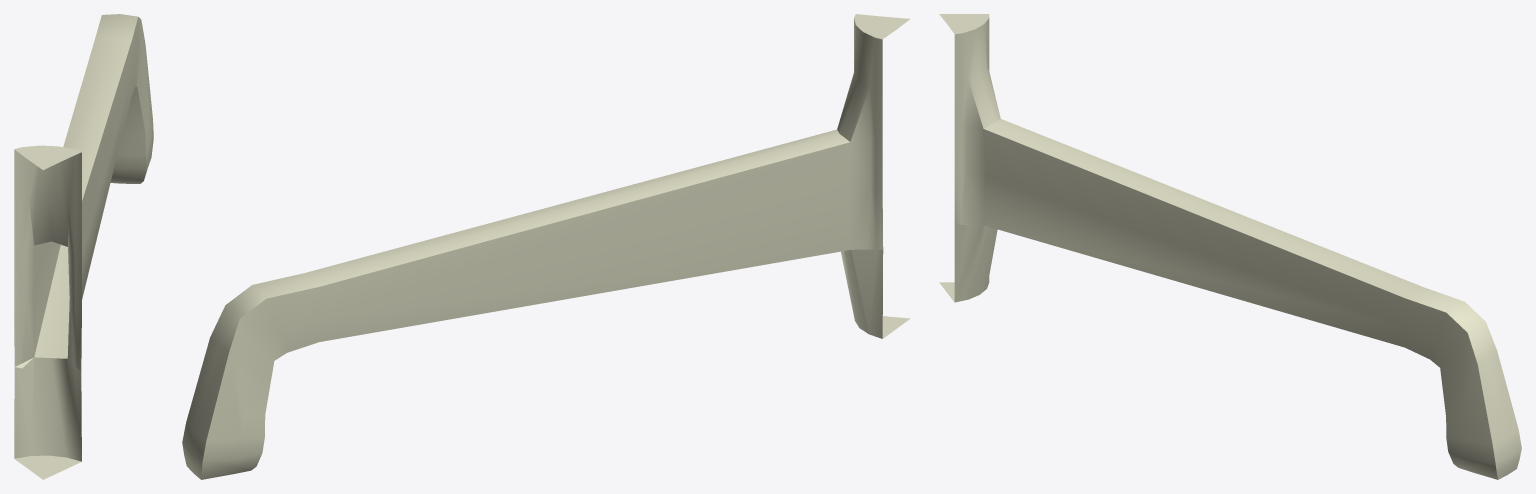
File: original-3.obj
3 views of the same model, side by side, from view 1: azimuth 30°, elevation 25°; view 2: azimuth 150°, elevation 25°; view 3: azimuth 270°, elevation 25° (orthographic). The views are drawn at different scales.
Visible parts, largest first — view 1: Group3/mesh11/mesh11-geometry#mesh11-geometry; view 2: Group3/mesh11/mesh11-geometry#mesh11-geometry; view 3: Group3/mesh11/mesh11-geometry#mesh11-geometry.
Part boxes in pixels (x1,y1,x2,y2): Group3/mesh11/mesh11-geometry#mesh11-geometry: [14, 14, 153, 479]; Group3/mesh11/mesh11-geometry#mesh11-geometry: [182, 14, 910, 479]; Group3/mesh11/mesh11-geometry#mesh11-geometry: [939, 14, 1521, 479].
Size of the model in its own units: 0.3446 by 0.2519 by 0.4645.
